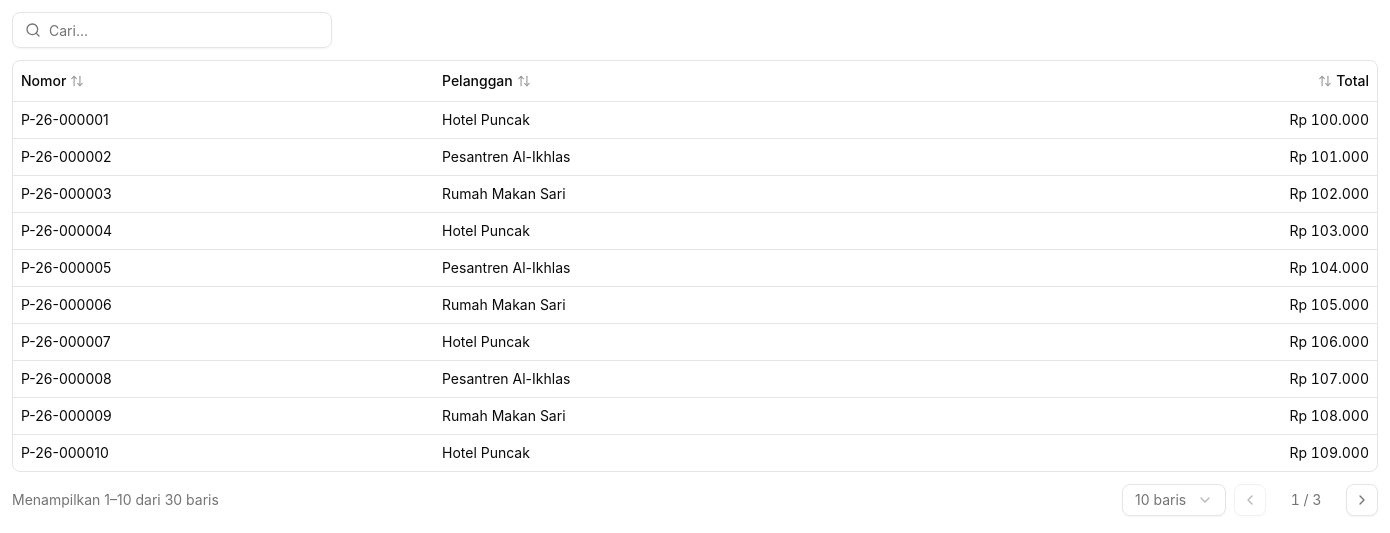
Test case: DataTable (TanStack v9) › paginasi 10 per halaman dan ringkasan jumlah baris
Expected: the text "Menampilkan 1–10 dari 30 baris" is shown, top-left (12, 490), bottom-right (219, 510)
Click the button named "Halaman berikutnya" at [1362, 500], box top-left (1346, 484), bottom-right (1378, 516)
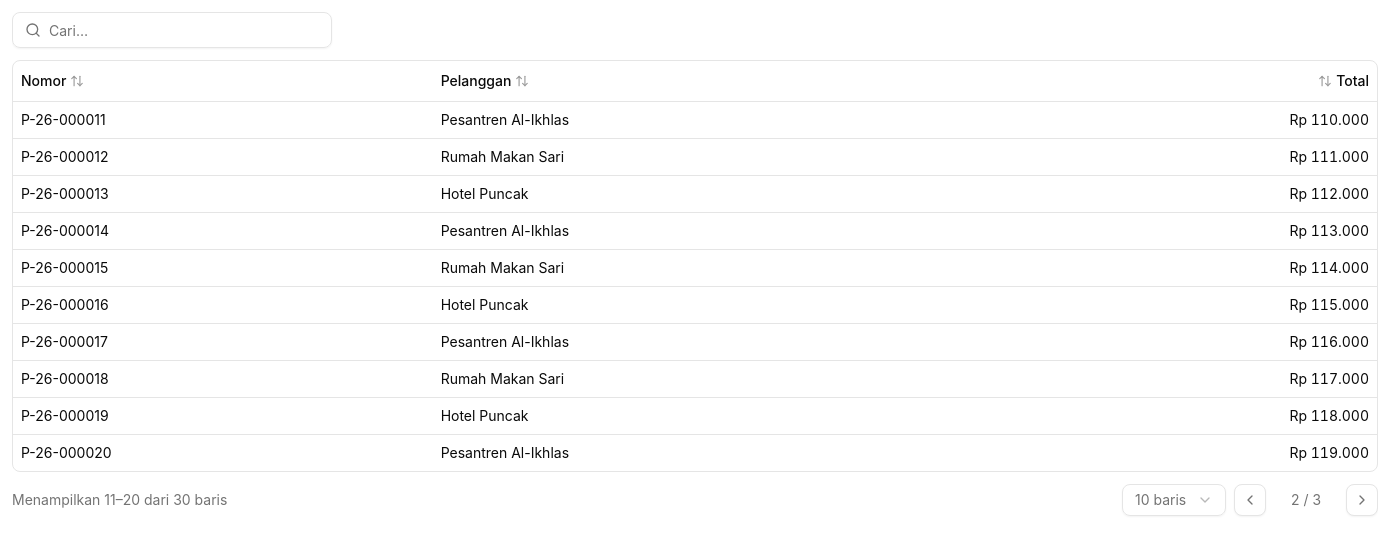
Expected: the text "Menampilkan 11–20 dari 30 baris" is shown, top-left (12, 490), bottom-right (227, 510)
Expected: the text "P-26-000011" is shown, top-left (13, 101), bottom-right (433, 138)
